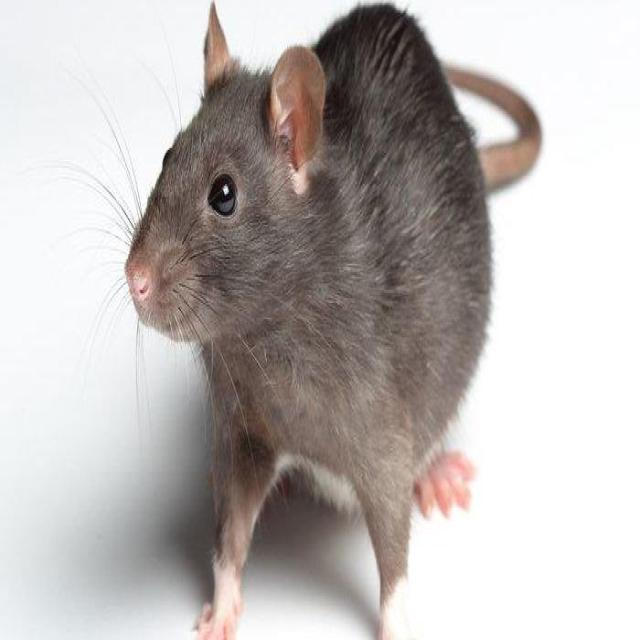rat: (110, 11, 501, 640)
